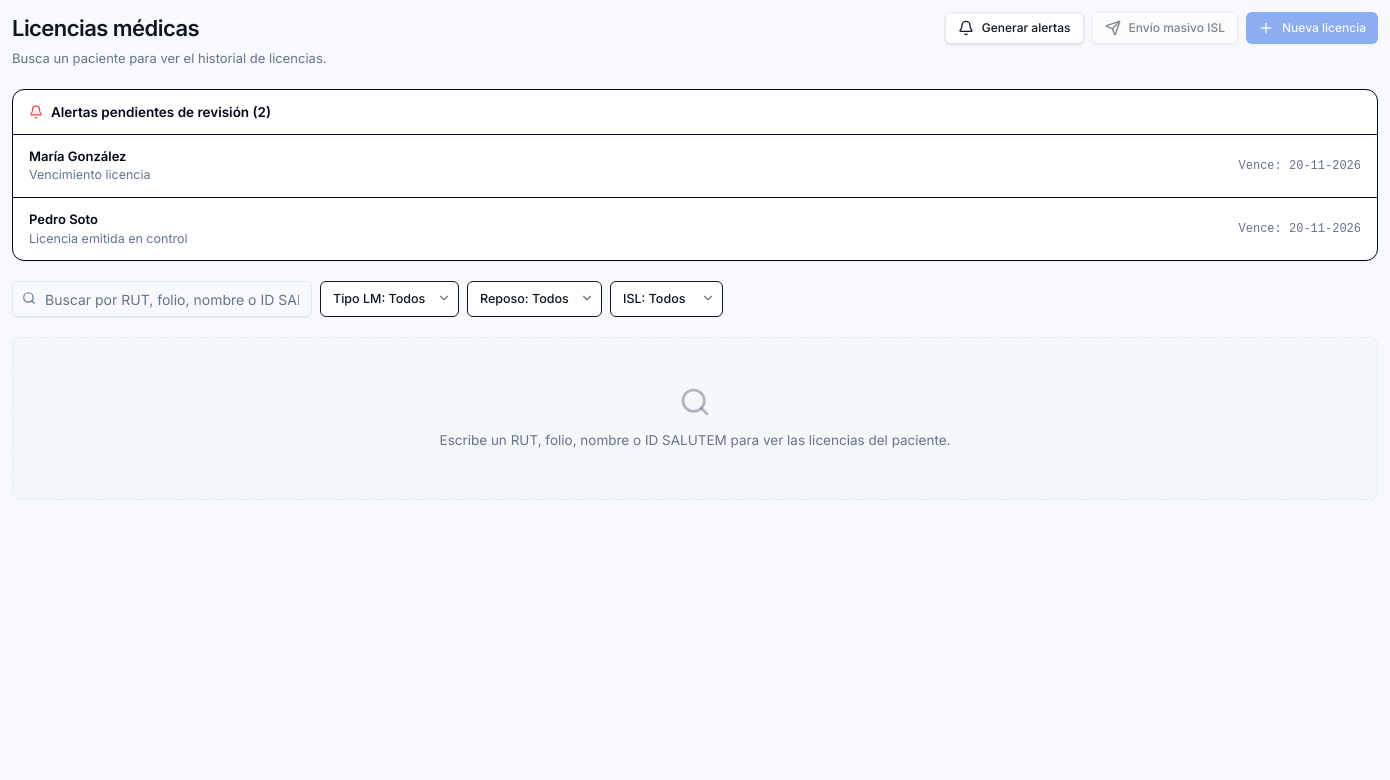
Test case: alertas pendientes al entrar a Licencias › al hacer clic abre las licencias de ese paciente
This screenshot has width=1390, height=780.
Step 1. Click the button with aria-label "Abrir alerta" → [78, 156], box x1=13 y1=135 x2=1377 y2=197
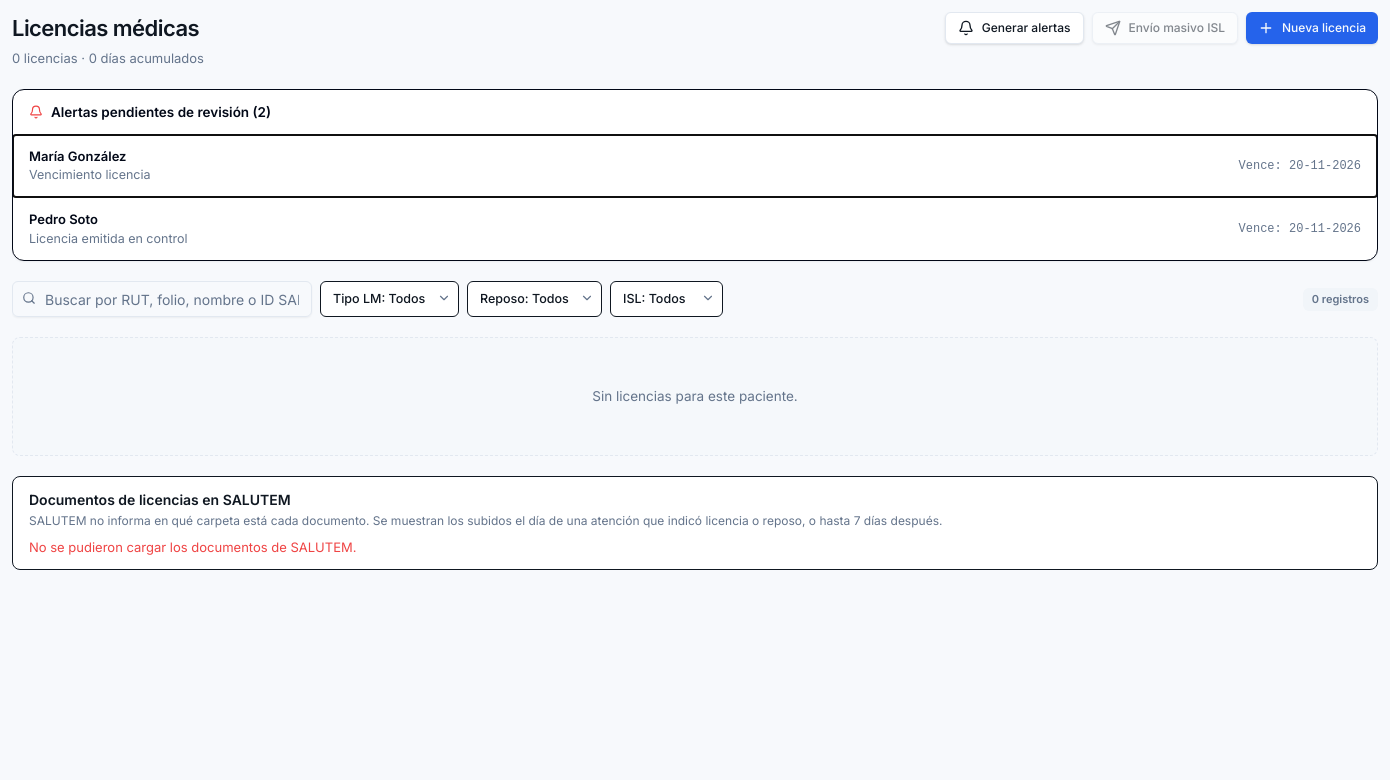
Expected: the text "Sin licencias para este paciente." is shown, x1=592 y1=388 x2=798 y2=404
